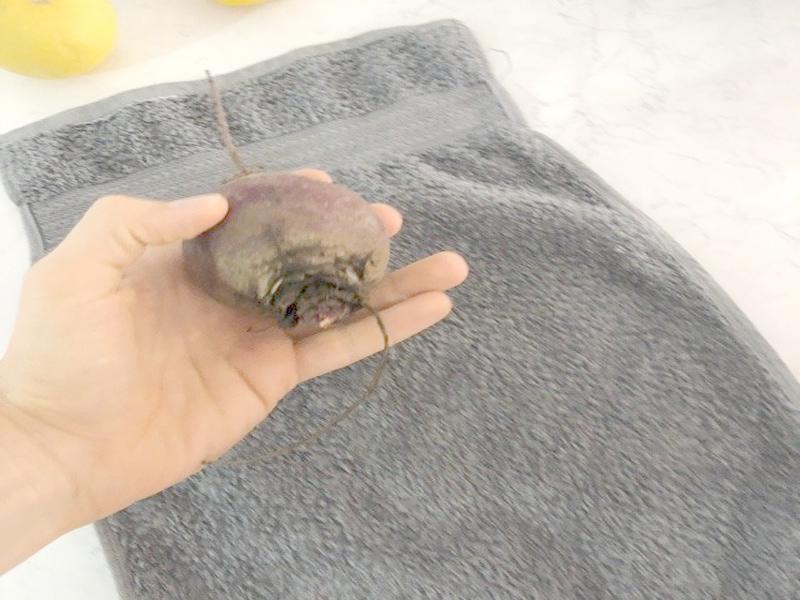Beet: (181, 70, 386, 336)
